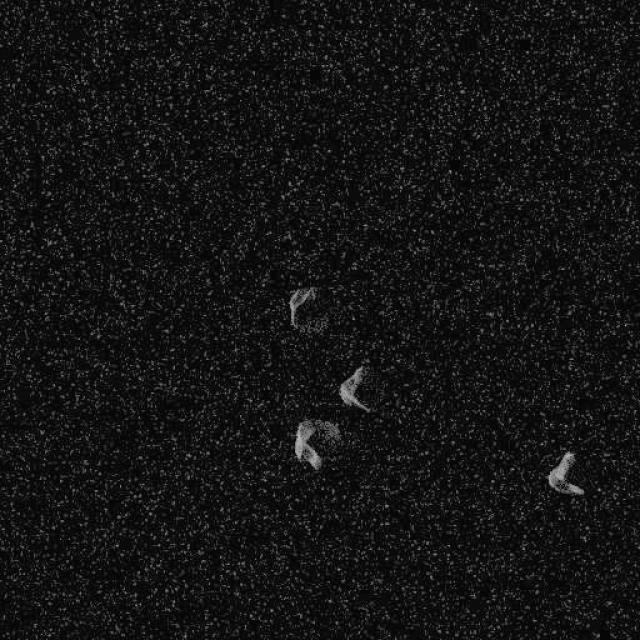D2: (292, 416, 342, 470), (336, 363, 372, 412), (546, 450, 584, 496), (288, 285, 318, 329)
